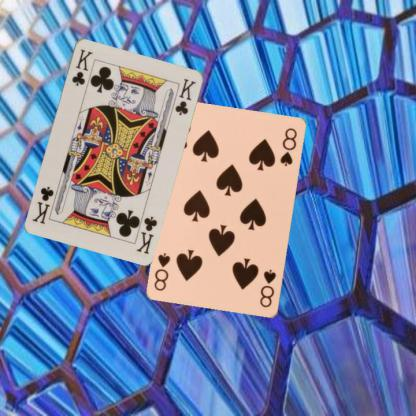8s: (257, 267, 277, 309)
Kc: (68, 46, 94, 87), (134, 214, 158, 256)
